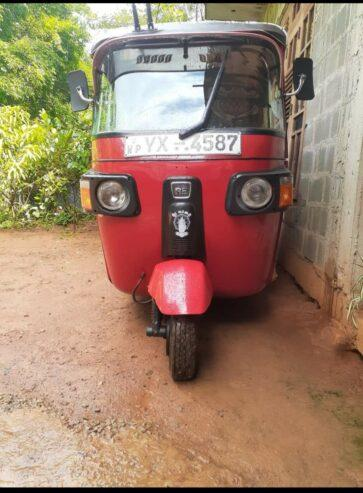threewheel: (68, 19, 315, 382)
